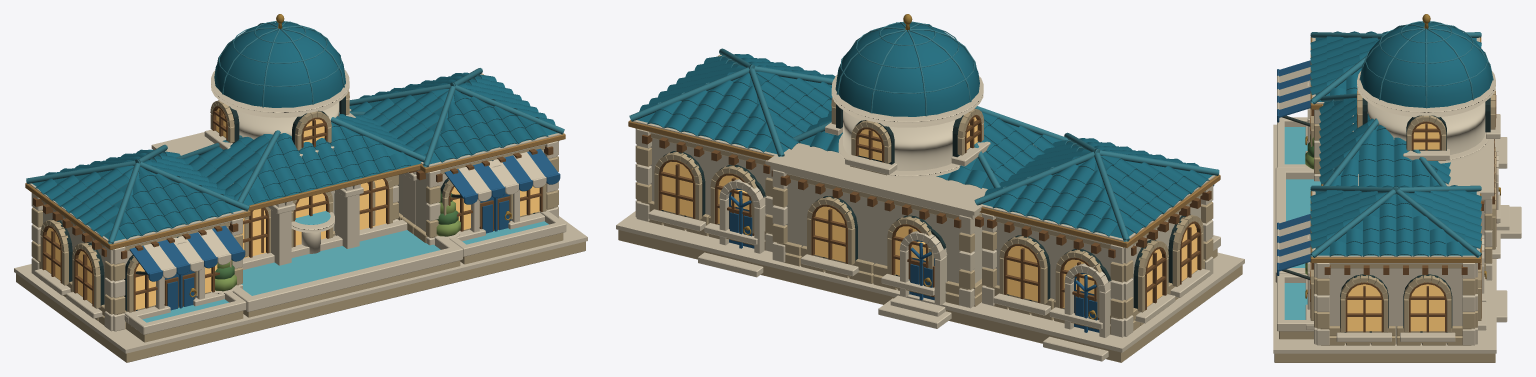
The picture shows the model from 3 angles, left to right: view 1: azimuth 30°, elevation 25°; view 2: azimuth 150°, elevation 25°; view 3: azimuth 270°, elevation 25°; orthographic projection. The views are drawn at different scales.
Visible parts, largest first — view 1: harbor_onsen_3_geometry; view 2: harbor_onsen_3_geometry; view 3: harbor_onsen_3_geometry.
Part boxes in pixels (left/top/right/bottom): harbor_onsen_3_geometry: left=14, top=14, right=587, bottom=362; harbor_onsen_3_geometry: left=616, top=14, right=1244, bottom=362; harbor_onsen_3_geometry: left=1273, top=14, right=1521, bottom=362.
Size of the model in its own units: 2.2 by 1.07 by 1.02.
